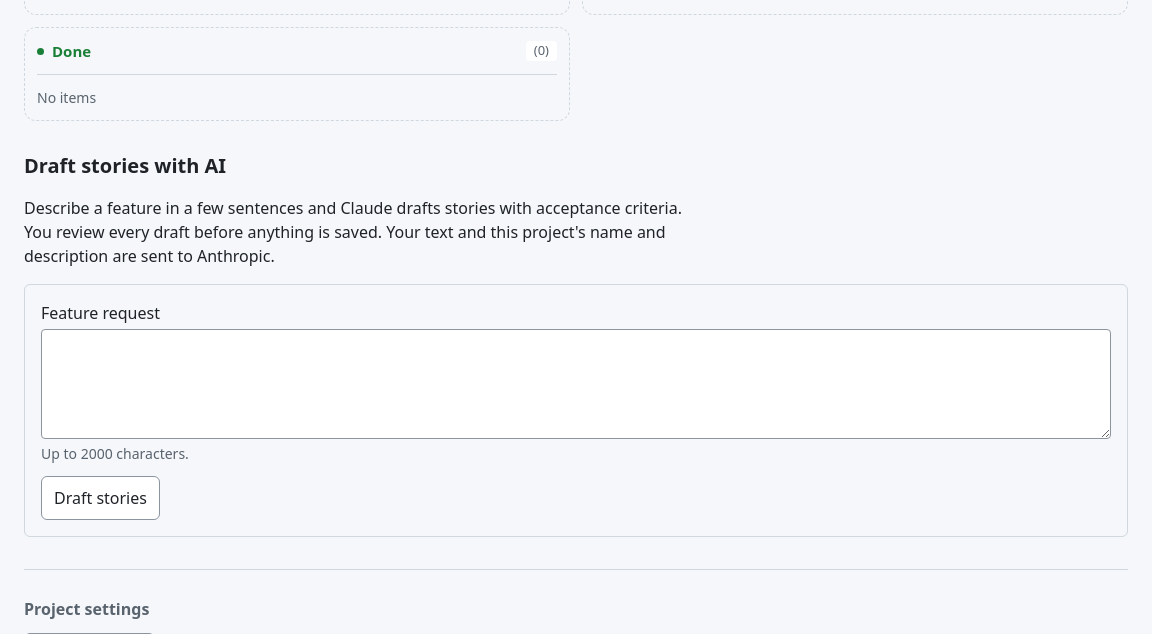
Test case: AI story drafter › says when there was nothing to draft
(page scrolled)
Type "stuff" into the text box labelled "Feature request" at (576, 384), box [41,329,1111,439]
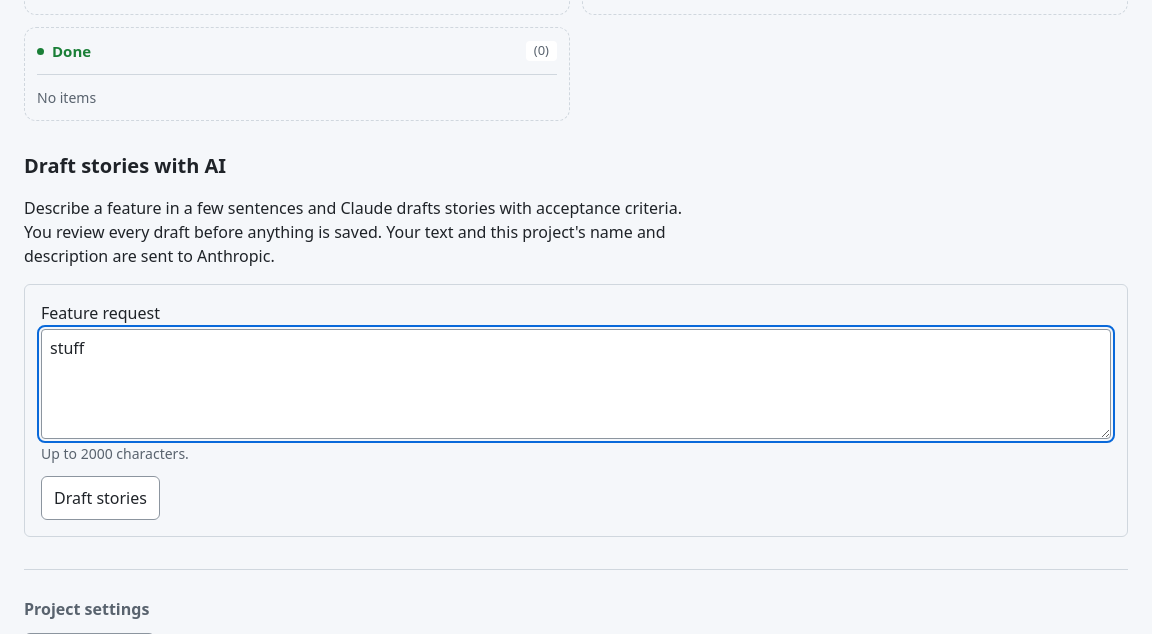
Click the button "Draft stories" at (100, 498), box [41,476,160,520]
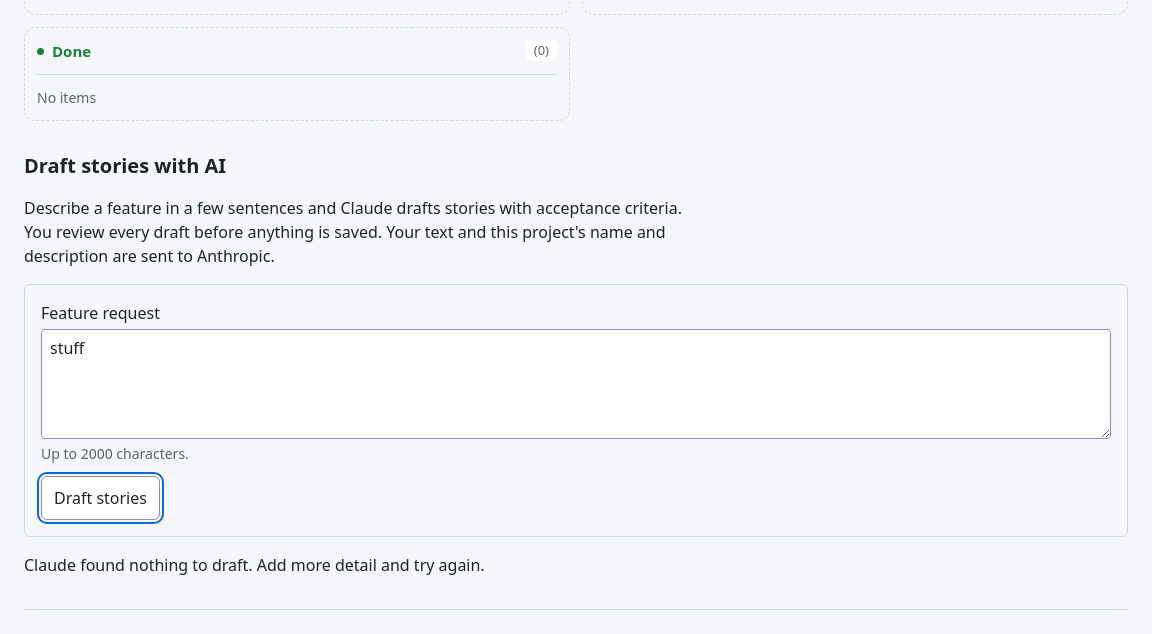
Expected: the message reads "Claude found nothing to draft. Add more detail and try again.", [24,554,485,576]
